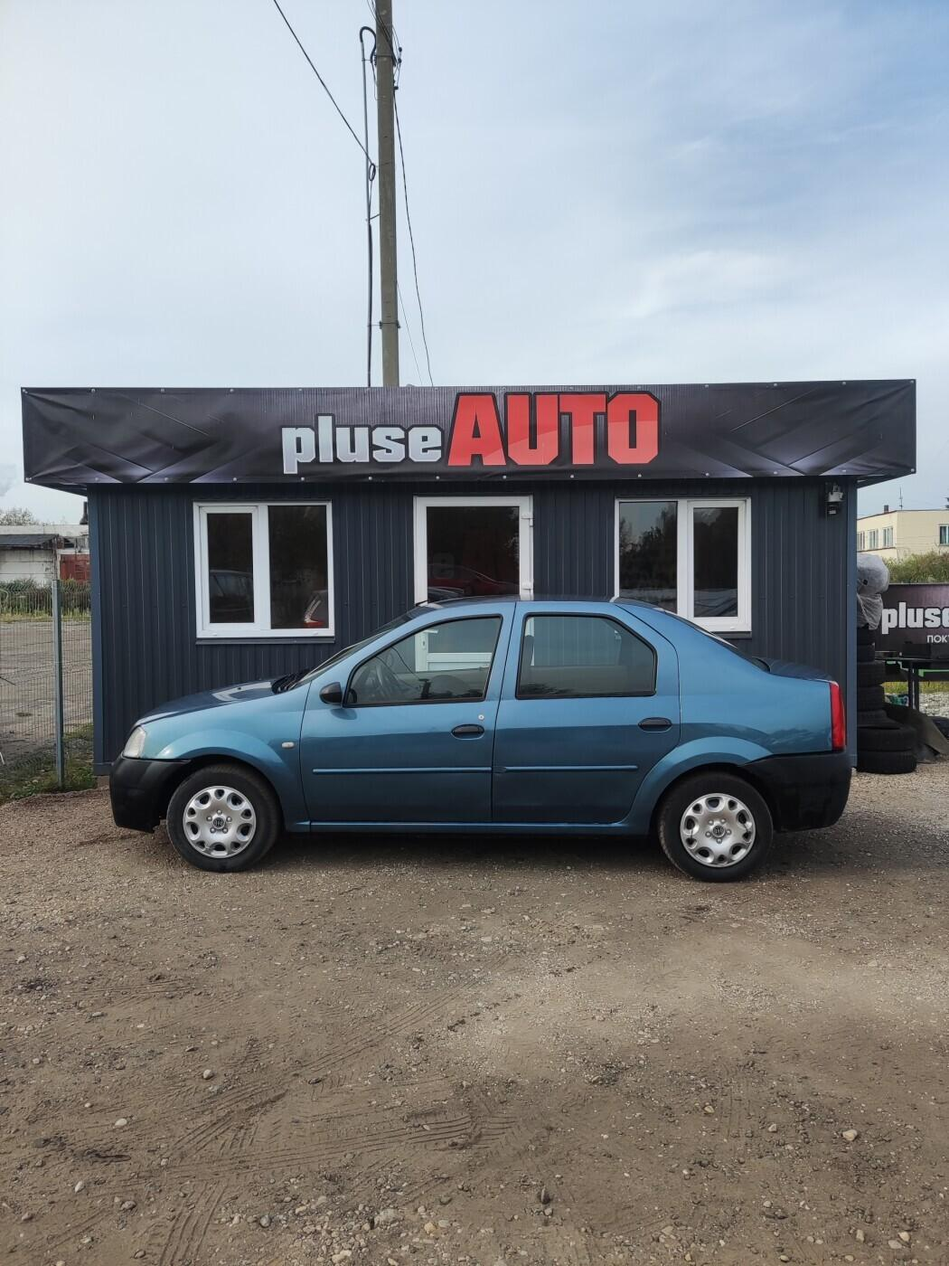Logan_2004-2009: (110, 593, 875, 893)
